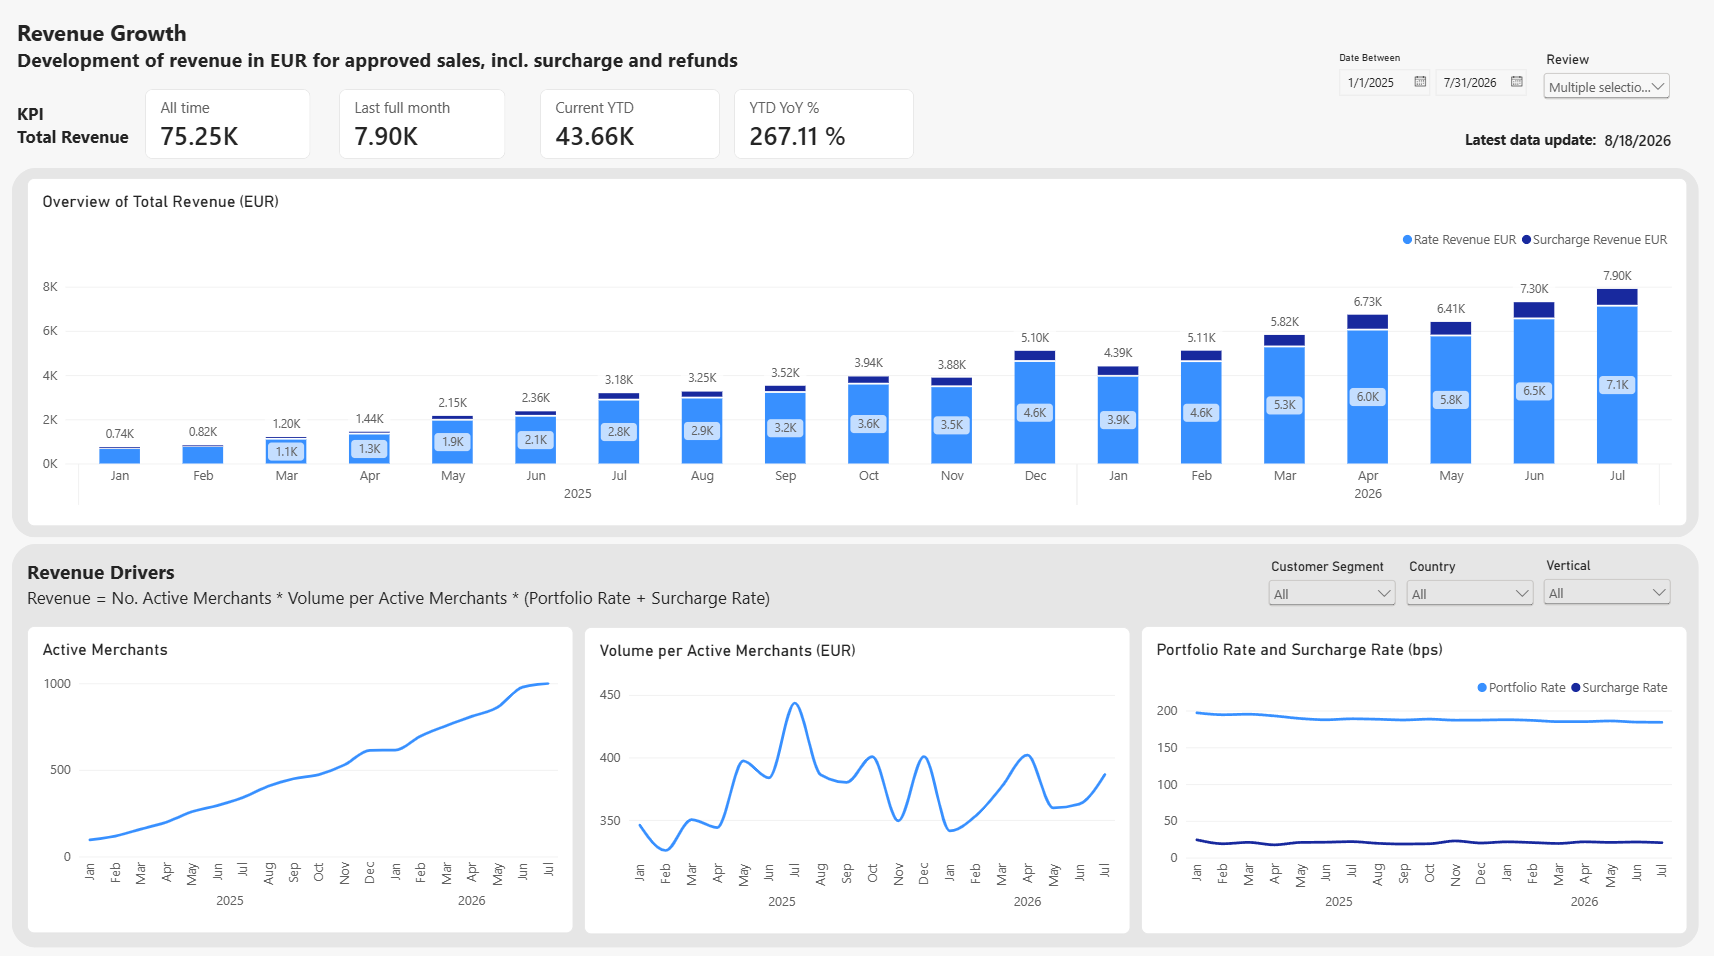

Layout of this report page (visuals, bound fields, positions):
{"tool":"powerbi","page":{"name":"Revenue Development","canvas":[1920,1080],"ordinal":1},"visuals":[{"type":"textbox","box":[1628.8,161.2,156.2,28.8],"z":0,"group":"g1"},{"type":"shape","box":[31.2,617.5,1855,443.8],"z":0},{"type":"cardVisual","fields":{"Data":["_Measures.Latest date"]},"box":[1766.3,151.2,108,42],"z":1000,"group":"g1"},{"type":"shape","box":[31.2,203.8,1855,406.2],"z":1000},{"type":"lineStackedColumnComboChart","title":"Overview of Total Revenue (EUR)","fields":{"Category":["Date.Year Hierarchy.Year","Date.Year Hierarchy.Month"],"Y":["_Measures.Rate Revenue EUR","_Measures.Surcharge Revenue EUR"]},"box":[47,215,1826,383],"z":2000},{"type":"cardVisual","fields":{"Data":["_Measures.Total Revenue EUR"]},"box":[177.5,116.2,182.5,77.5],"z":3000},{"type":"textbox","title":"Title","box":[36,37,1028,72],"z":4000},{"type":"slicer","title":"Review Slicer","fields":{"Values":["Transactions.review_flag"]},"box":[1710,76.2,148.8,67.5],"z":5000},{"type":"group","id":"g1","title":"Last data update","box":[1628.8,151.2,245,42.5],"z":6000},{"type":"slicer","fields":{"Values":["Date.Date"]},"box":[1482.5,76.2,225,55],"z":7000},{"type":"textbox","box":[36.2,131.2,141.2,62.5],"z":8000},{"type":"textbox","title":"Click the button","box":[47.5,632.5,1016.2,57.5],"z":9000},{"type":"cardVisual","fields":{"Data":["_Measures.Revenue Last Full Month"]},"box":[390,116.2,183.8,77.5],"z":10000},{"type":"cardVisual","fields":{"Data":["_Measures.Revenue YTD"]},"box":[611.2,116.2,198.8,77.5],"z":11000},{"type":"cardVisual","fields":{"Data":["_Measures.Revenue YTD Growth %"]},"box":[825,116.2,198.8,77.5],"z":12000},{"type":"lineChart","title":"Active Merchants","fields":{"Category":["Date.Year Hierarchy.Year","Date.Year Hierarchy.Month"],"Y":["_Measures.Active Merchants"]},"box":[47.5,707.5,601.2,337.5],"z":13000},{"type":"lineChart","title":"Volume per Active Merchants (EUR)","fields":{"Category":["Date.Year Hierarchy.Year","Date.Year Hierarchy.Month"],"Y":["_Measures.Volume per Active Merchant"]},"box":[660,708.8,601.2,337.5],"z":14000},{"type":"lineChart","title":"Portfolio Rate and Surcharge Rate (bps)","fields":{"Category":["Date.Year Hierarchy.Year","Date.Year Hierarchy.Month"],"Y":["_Measures.Portfolio Rate","_Measures.Surcharge Rate"]},"box":[1272.5,707.5,601.2,338.8],"z":15000},{"type":"slicer","fields":{"Values":["Merchants.country"]},"box":[1560,633.8,150,56.2],"z":16000},{"type":"slicer","fields":{"Values":["Merchants.customer_segment"]},"box":[1407.5,633.8,150,56.2],"z":17000},{"type":"slicer","fields":{"Values":["Merchants.vertical"]},"box":[1710,632.5,150,56.2],"z":18000}]}

Visuals, with their boxes in screenshot pixels (x1, y1, x2, y2), scaled from the page's 1920x1080 canvas onto the 1714x956 screenshot:
textbox: 1454, 143, 1593, 168
shape: 28, 547, 1684, 939
cardVisual - _Measures.Latest date: 1577, 134, 1673, 171
shape: 28, 180, 1684, 540
"Overview of Total Revenue (EUR)" lineStackedColumnComboChart: 42, 190, 1672, 529
cardVisual - _Measures.Total Revenue EUR: 158, 103, 321, 171
"Title" textbox: 32, 33, 950, 96
"Review Slicer" slicer: 1527, 67, 1659, 127
"Last data update" group: 1454, 134, 1673, 171
slicer - Date.Date: 1323, 67, 1524, 116
textbox: 32, 116, 158, 171
"Click the button" textbox: 42, 560, 950, 611
cardVisual - _Measures.Revenue Last Full Month: 348, 103, 512, 171
cardVisual - _Measures.Revenue YTD: 546, 103, 723, 171
cardVisual - _Measures.Revenue YTD Growth %: 736, 103, 914, 171
"Active Merchants" lineChart: 42, 626, 579, 925
"Volume per Active Merchants (EUR)" lineChart: 589, 627, 1126, 926
"Portfolio Rate and Surcharge Rate (bps)" lineChart: 1136, 626, 1673, 926
slicer - Merchants.country: 1393, 561, 1527, 611
slicer - Merchants.customer_segment: 1256, 561, 1390, 611
slicer - Merchants.vertical: 1527, 560, 1660, 610
